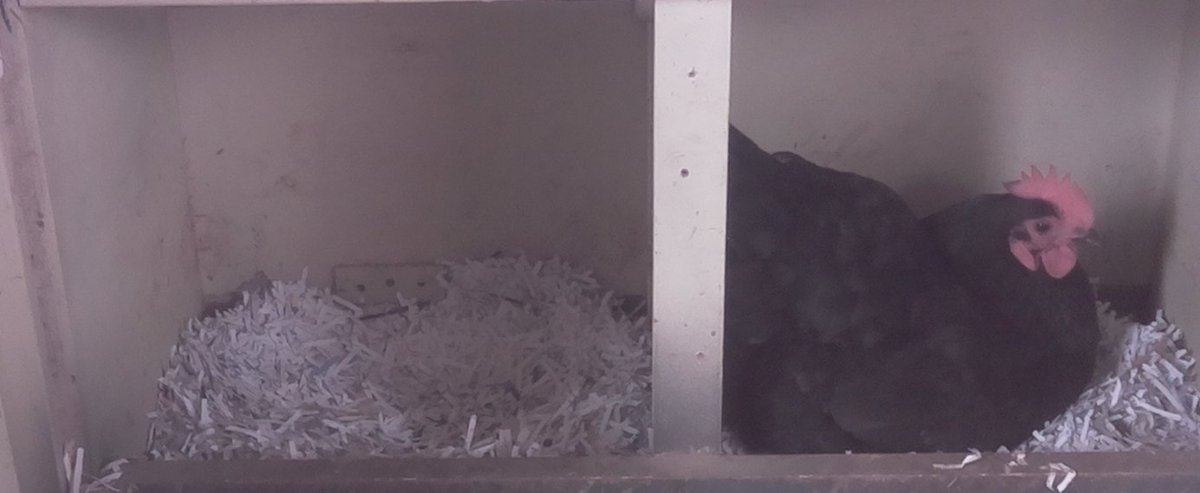hen: (732, 123, 1105, 447)
